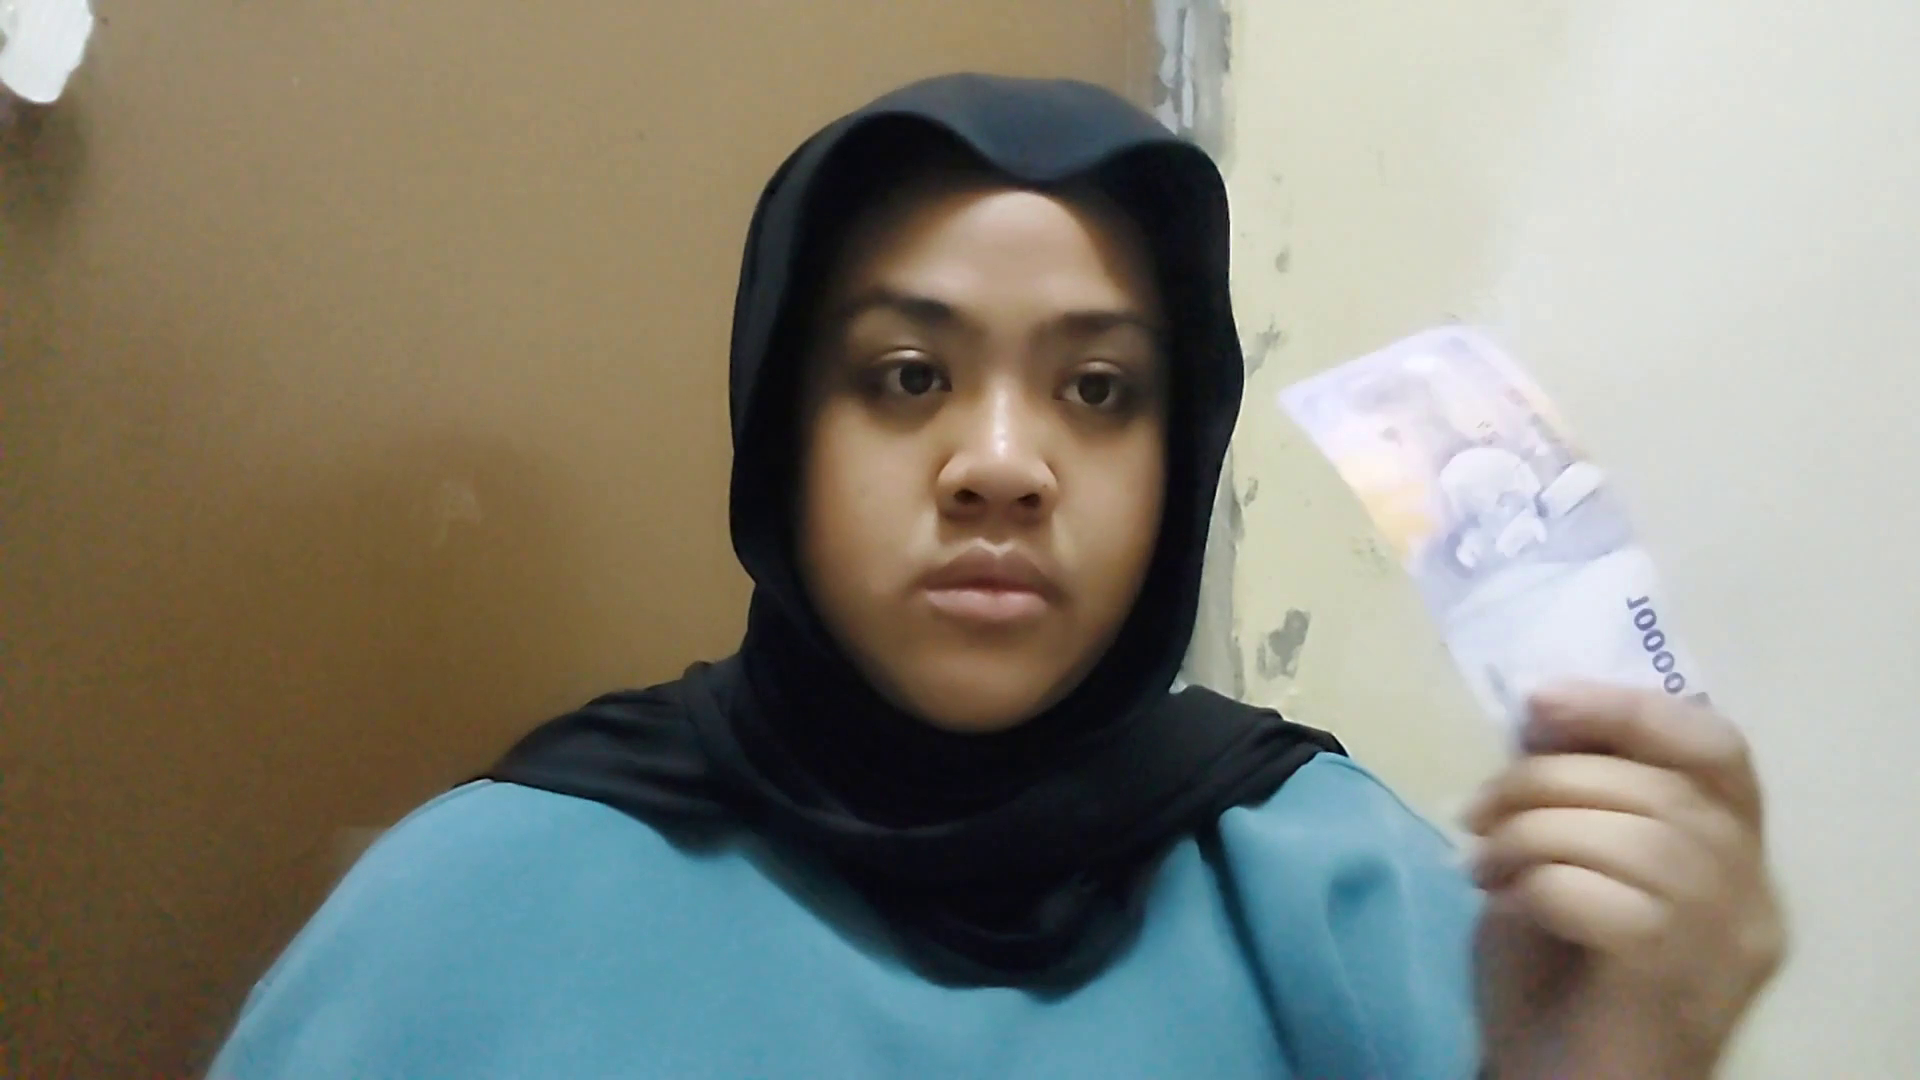10k: (1262, 400, 1539, 882)
